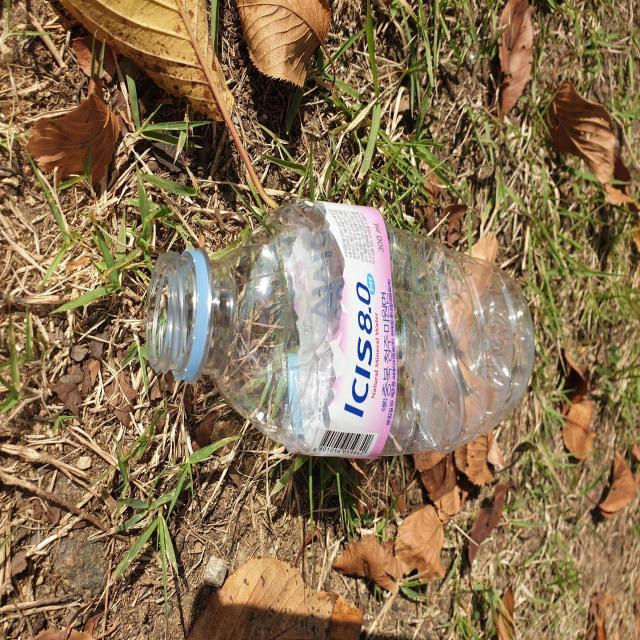plastic: (146, 200, 535, 458)
